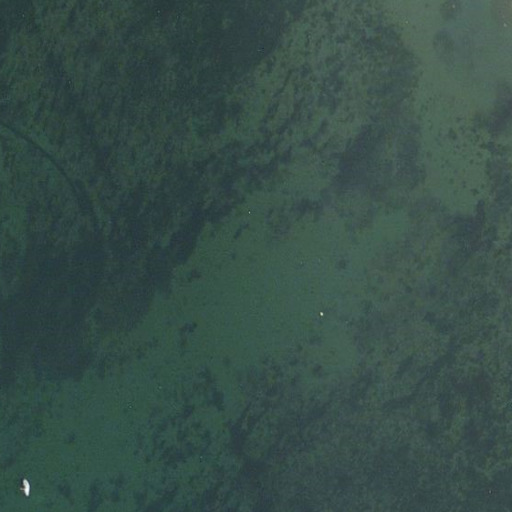ship: (20, 477, 33, 498)
